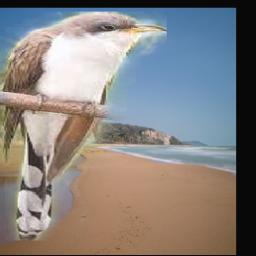Cuckoo: (0, 13, 167, 242)
